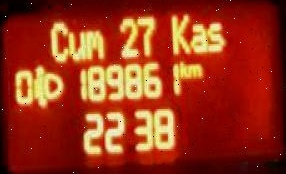0: (14, 69, 31, 105)
1: (170, 60, 179, 94), (79, 67, 86, 100)
2: (103, 108, 124, 152), (82, 110, 103, 154), (118, 15, 138, 57)
3: (132, 107, 152, 150)
6: (142, 60, 162, 97)
7: (136, 14, 154, 54)
8: (153, 105, 174, 149), (86, 64, 105, 100), (124, 60, 141, 99)
9: (104, 62, 123, 100)
X: (170, 12, 190, 53), (49, 18, 66, 62), (84, 27, 103, 58), (189, 20, 206, 52), (206, 20, 224, 50), (68, 29, 84, 60), (188, 60, 202, 77), (178, 59, 188, 75)
